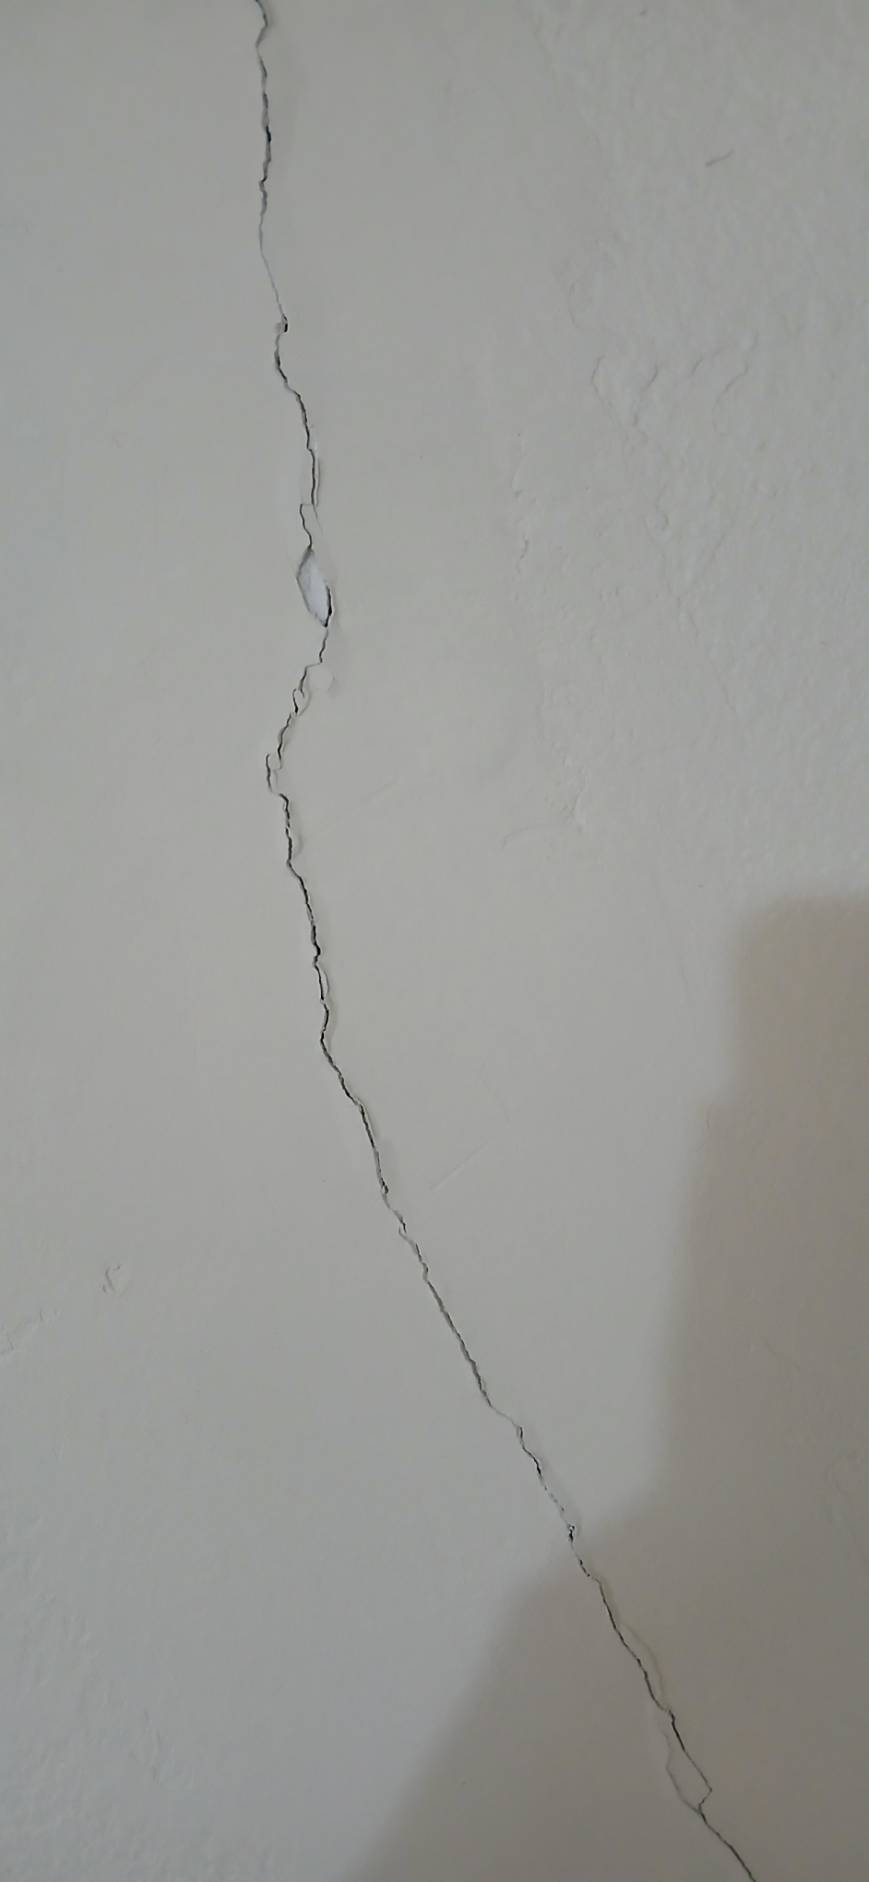Low: (206, 1, 869, 1882)
